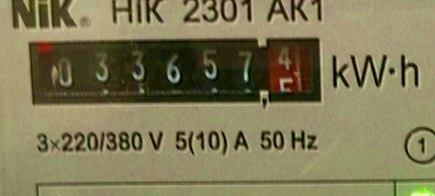0: (56, 53, 77, 90)
3: (94, 49, 113, 84), (130, 48, 148, 83)
4: (277, 42, 296, 72)
5: (200, 46, 222, 82)
6: (164, 51, 184, 86)
7: (237, 48, 255, 84)
screen: (18, 30, 331, 114)
